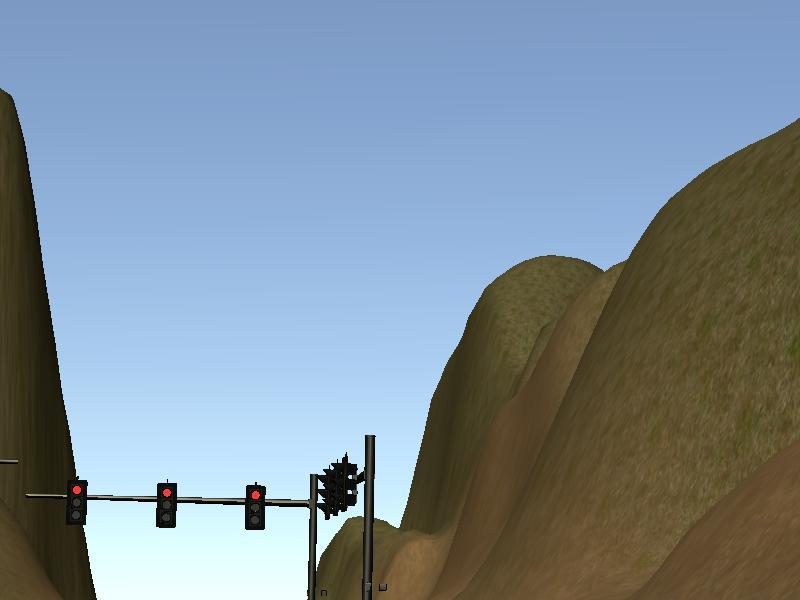Red: (245, 484, 265, 531), (157, 482, 177, 528), (67, 479, 85, 524)
